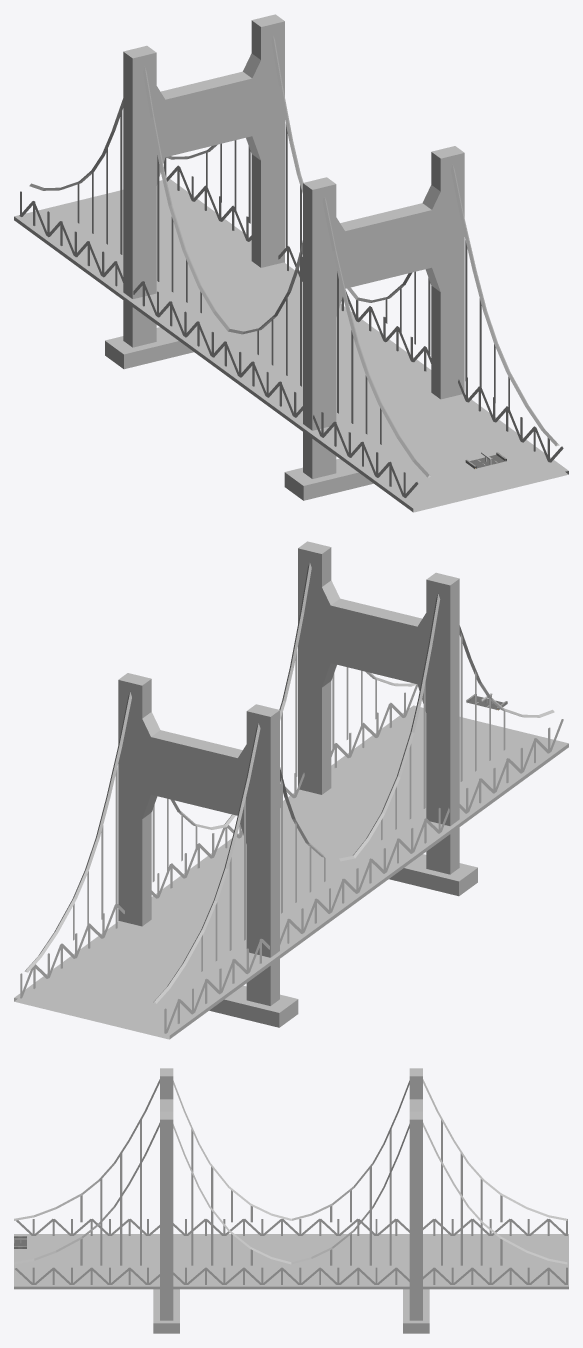
The model's file is BridgeRoad_Gwangalli.fbx.
The picture shows the model from 3 angles, top to bottom: view 1: azimuth 30°, elevation 25°; view 2: azimuth 150°, elevation 25°; view 3: azimuth 270°, elevation 25°; orthographic projection. The views are drawn at different scales.
Visible parts, largest first — view 1: Bridge_Gwangalli; view 2: Bridge_Gwangalli; view 3: Bridge_Gwangalli.
Boxes of the visible parts, bbox=[...] form: Bridge_Gwangalli: bbox=[14, 14, 568, 512]; Bridge_Gwangalli: bbox=[14, 541, 568, 1039]; Bridge_Gwangalli: bbox=[14, 1068, 568, 1333].
Size of the model in its own units: 10850 by 18108 by 43122.
